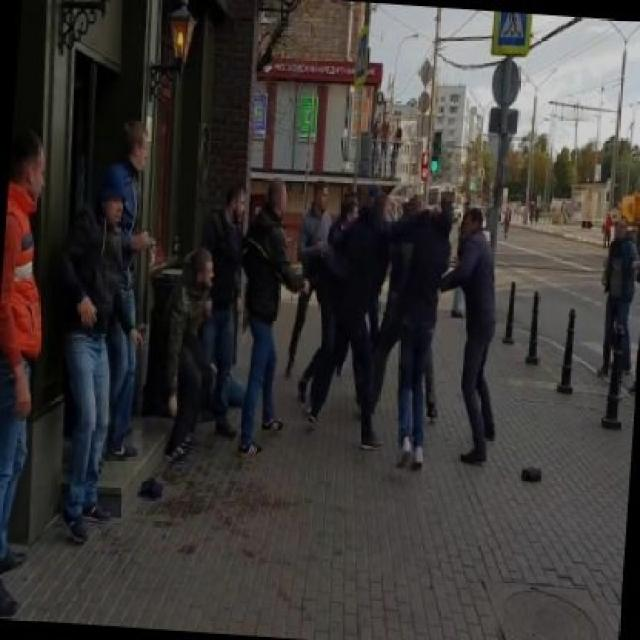fight: (298, 192, 454, 473)
non-fight: (54, 180, 150, 542), (0, 130, 52, 618), (235, 178, 311, 457), (440, 207, 499, 463), (157, 252, 218, 461), (594, 215, 640, 380)
